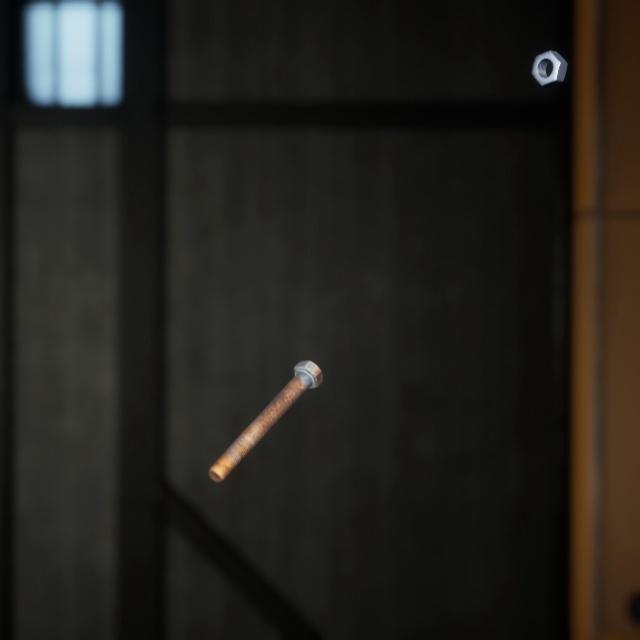bolt: (204, 336, 327, 465)
nut: (526, 35, 572, 81)
